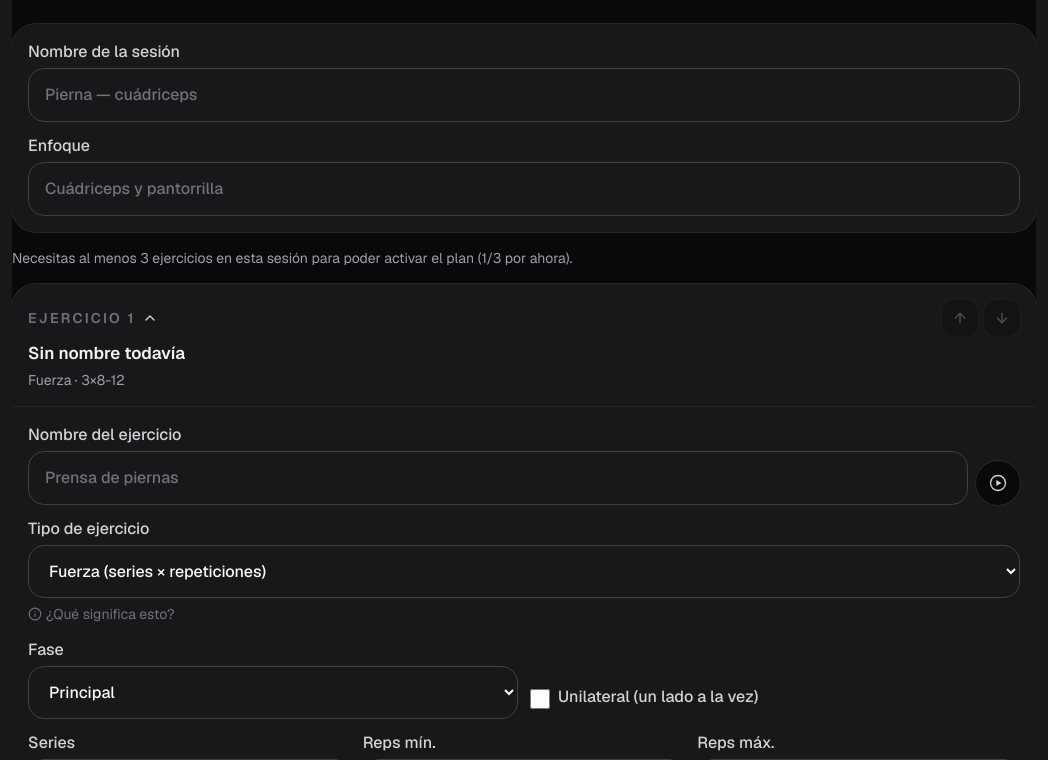
Scenario: SessionEditorForm › switches between strength and duration fields when the exercise type changes
Expected: the field labelled "Duración" is not shown
Select "Duración (calentamiento cardio, movilidad)" in the dropdown labelled "Tipo de ejercicio" at (524, 572), box 28,545 -> 1020,598
(page scrolled)
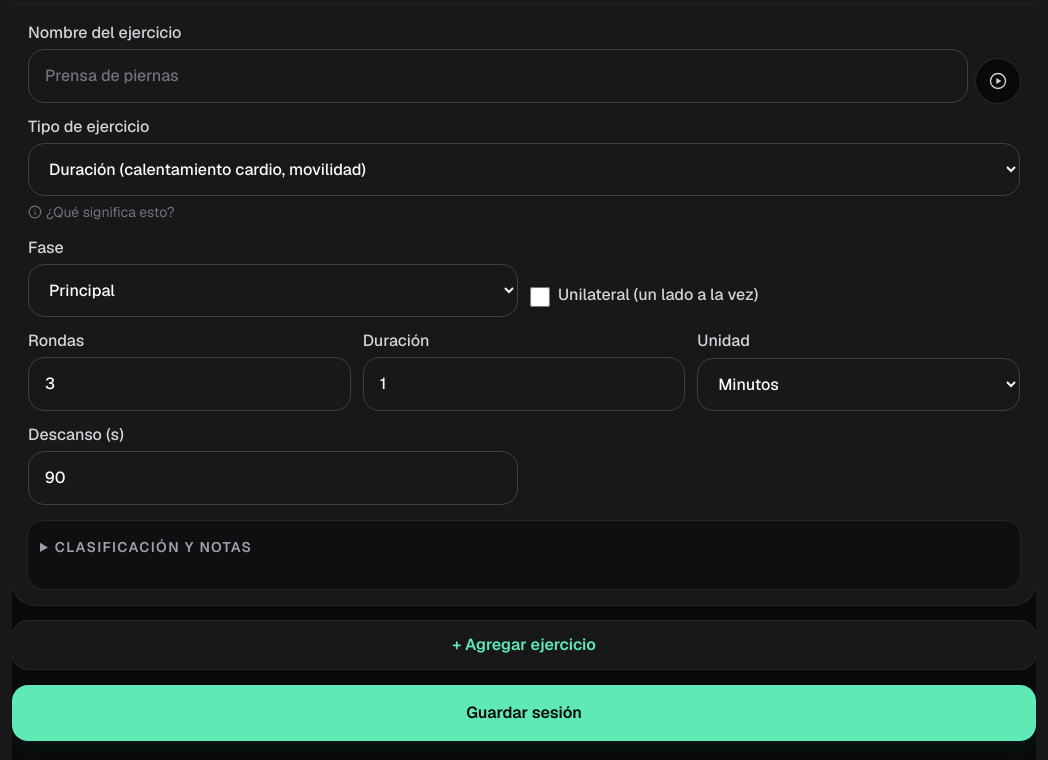
Expected: the number field labelled "Rondas" is shown, 28,357 -> 351,411
Result: the number field labelled "Duración" is shown at 363,357 -> 685,411
Result: the text labelled "Reps mín." is gone
